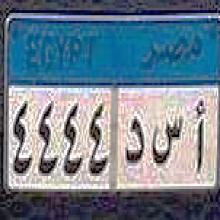4: (61, 93, 84, 180), (86, 97, 110, 180), (10, 96, 34, 177), (36, 94, 58, 180)
alif: (191, 89, 208, 183)
daal: (123, 111, 146, 173)
seen: (150, 110, 183, 172)
